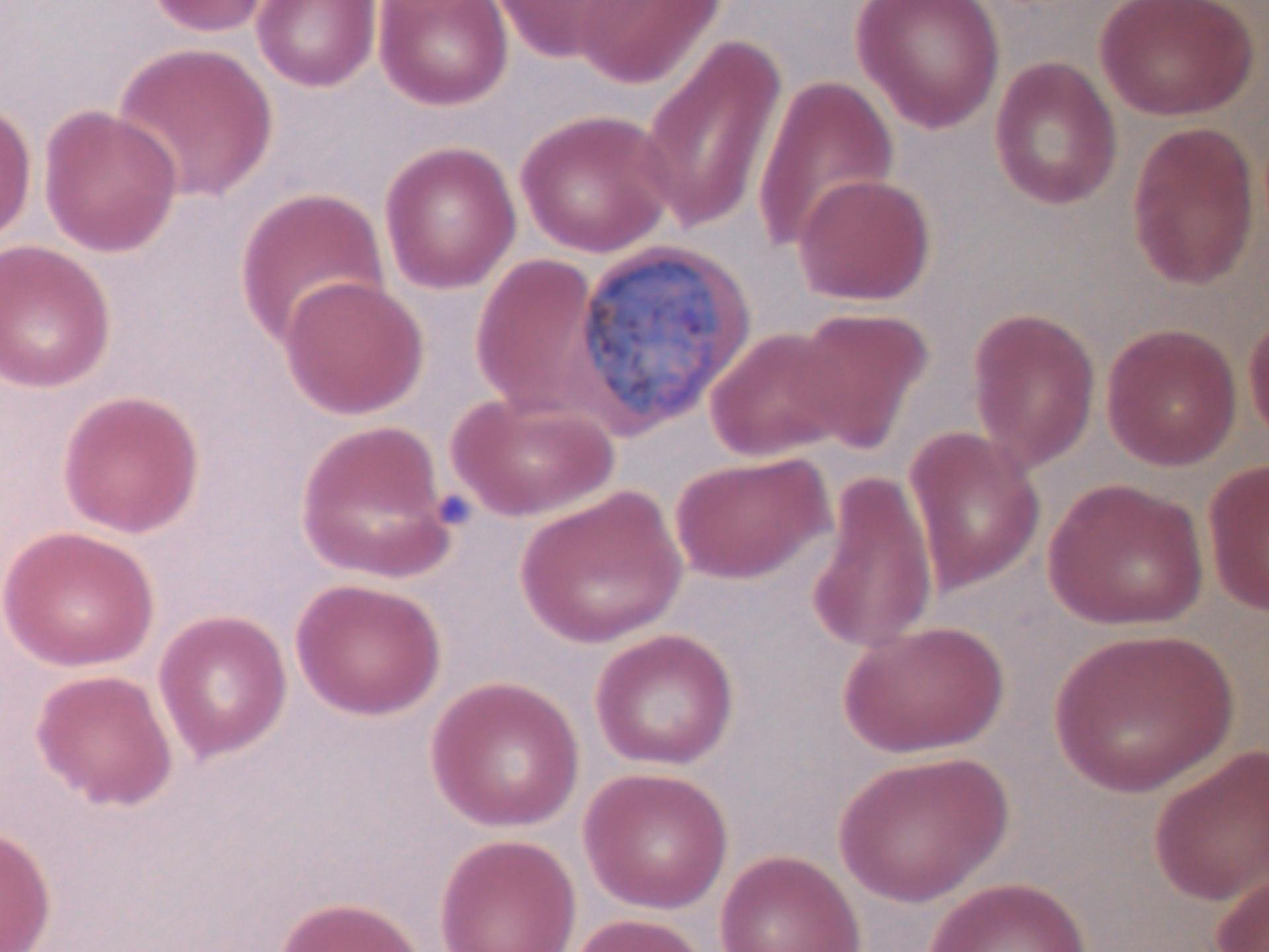Infected: (576, 248, 750, 437)
Uninfected: (643, 38, 773, 229), (1058, 640, 1223, 788), (520, 494, 675, 640), (843, 761, 1002, 899), (303, 429, 451, 573), (764, 71, 881, 250), (124, 54, 268, 195), (1051, 487, 1199, 622), (432, 686, 575, 823), (909, 434, 1036, 587), (383, 148, 518, 291), (529, 122, 680, 247), (7, 534, 151, 665), (245, 188, 379, 326), (847, 632, 999, 752), (477, 260, 597, 412), (806, 164, 933, 306), (818, 478, 927, 641), (297, 588, 438, 714), (584, 777, 723, 904), (453, 400, 609, 513), (295, 272, 422, 410), (48, 111, 175, 246), (1136, 130, 1251, 277), (38, 678, 171, 805), (679, 460, 824, 576), (160, 622, 285, 756), (976, 316, 1092, 460), (65, 401, 193, 531), (1109, 334, 1235, 464), (858, 2, 994, 122), (707, 334, 843, 453), (1102, 0, 1245, 112), (597, 638, 726, 762), (802, 318, 923, 444), (997, 65, 1112, 196), (1158, 752, 1264, 894), (1, 249, 108, 382), (443, 846, 572, 951), (379, 2, 504, 101), (722, 862, 855, 949), (571, 3, 714, 83), (258, 1, 371, 81), (1209, 465, 1266, 608)
